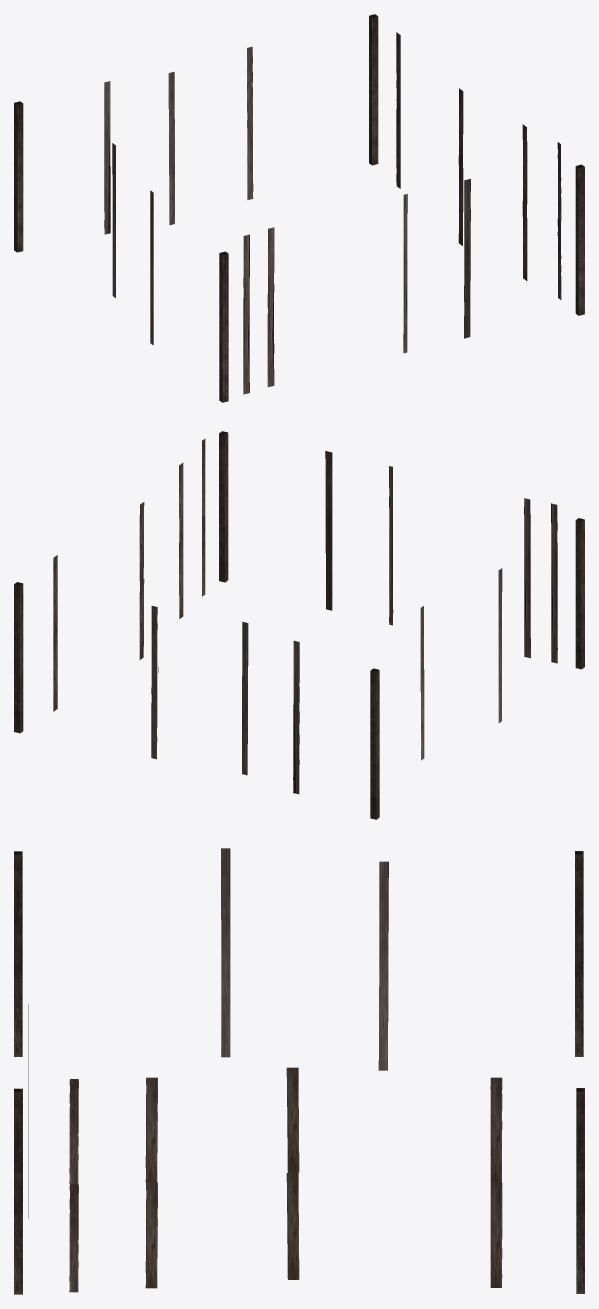
File: P_CircusWoodenFrame_Under01.FBX
3 views of the same model, one above another, from view 1: azimuth 30°, elevation 25°; view 2: azimuth 150°, elevation 25°; view 3: azimuth 270°, elevation 25° (orthographic). The views are drawn at different scales.
Parts seen in each view (by area): view 1: P_CircusWoodenFrame_Under01; view 2: P_CircusWoodenFrame_Under01; view 3: P_CircusWoodenFrame_Under01.
Part boxes in pixels (x1,y1,x2,y2): P_CircusWoodenFrame_Under01: (14,14,584,402); P_CircusWoodenFrame_Under01: (14,431,584,819); P_CircusWoodenFrame_Under01: (14,848,584,1294).
Bounding box in the file's own units: 756 × 316 × 755.
